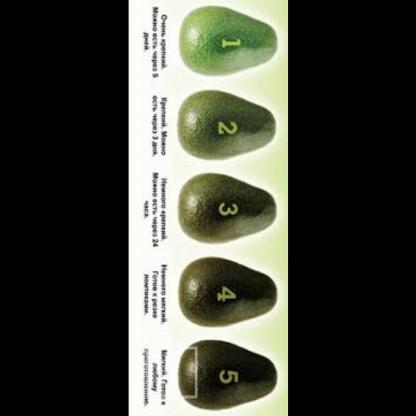avocado: (167, 341, 286, 416), (171, 6, 286, 82), (164, 172, 282, 246), (165, 91, 281, 165), (174, 258, 284, 330)
